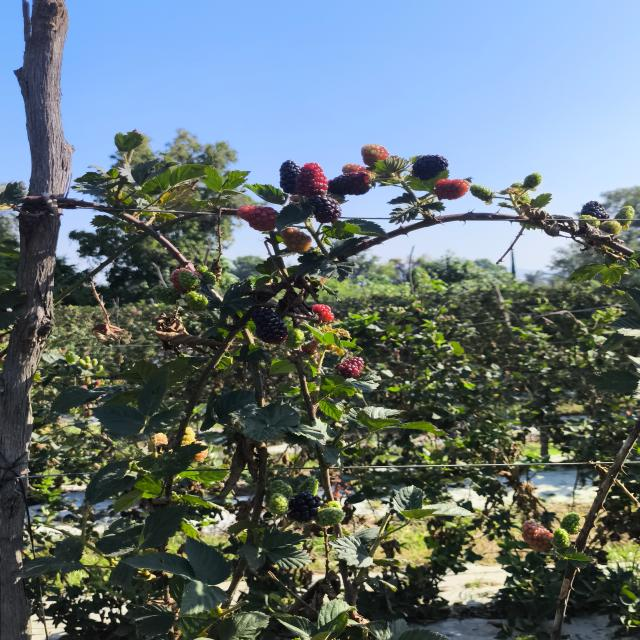maduro: (252, 307, 288, 344), (288, 491, 321, 522), (307, 196, 341, 223), (413, 155, 448, 181), (279, 160, 300, 194), (581, 201, 609, 219)
marron: (335, 357, 364, 379)
naranja: (293, 163, 328, 196), (237, 205, 278, 232), (522, 520, 553, 551), (280, 228, 312, 253), (434, 179, 470, 200), (361, 144, 389, 166), (312, 304, 334, 322), (342, 163, 367, 174)
verde: (315, 507, 345, 527), (266, 480, 293, 498), (178, 269, 200, 291), (616, 206, 635, 230), (470, 185, 494, 204), (185, 291, 208, 310), (561, 513, 580, 534), (269, 493, 288, 514), (299, 477, 319, 496), (553, 528, 570, 549), (599, 220, 622, 235), (198, 266, 216, 284), (523, 173, 542, 189), (579, 214, 600, 227)
